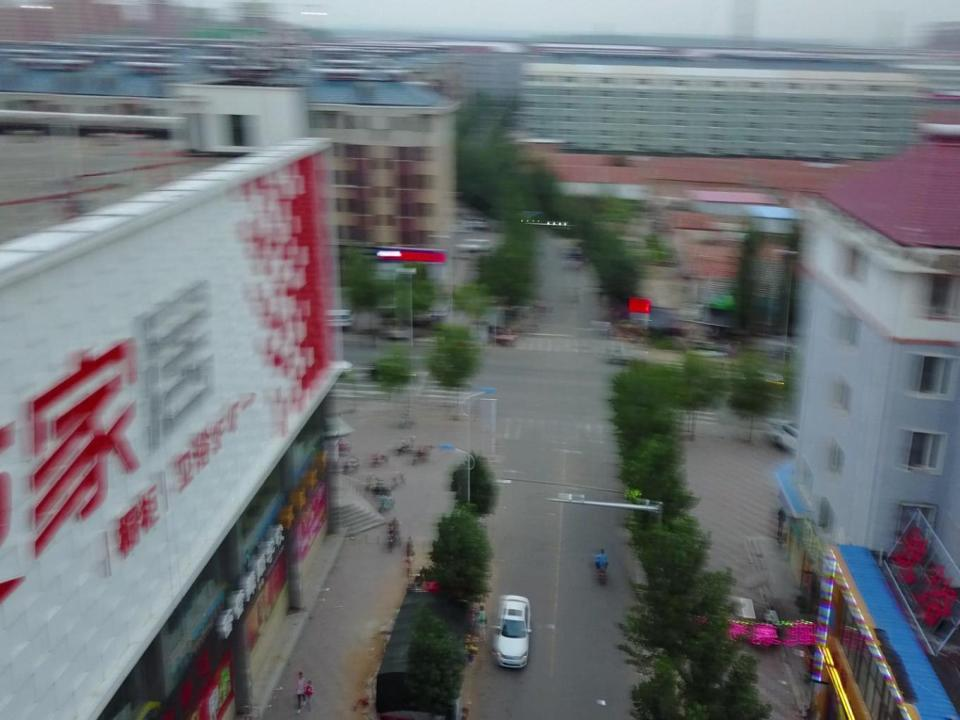car: (490, 593, 530, 667), (768, 417, 816, 467), (371, 361, 408, 383), (458, 234, 493, 254)
